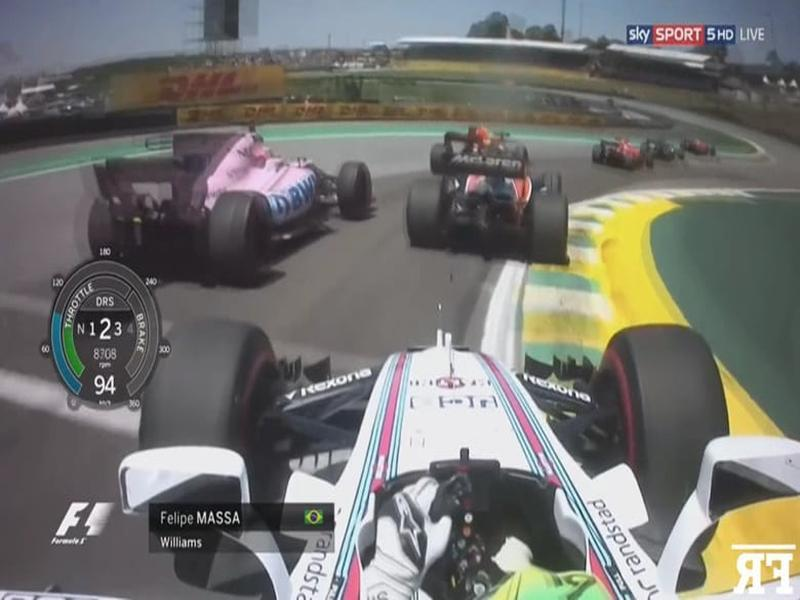racecar: (82, 124, 373, 262), (415, 160, 566, 261), (593, 134, 654, 170)
